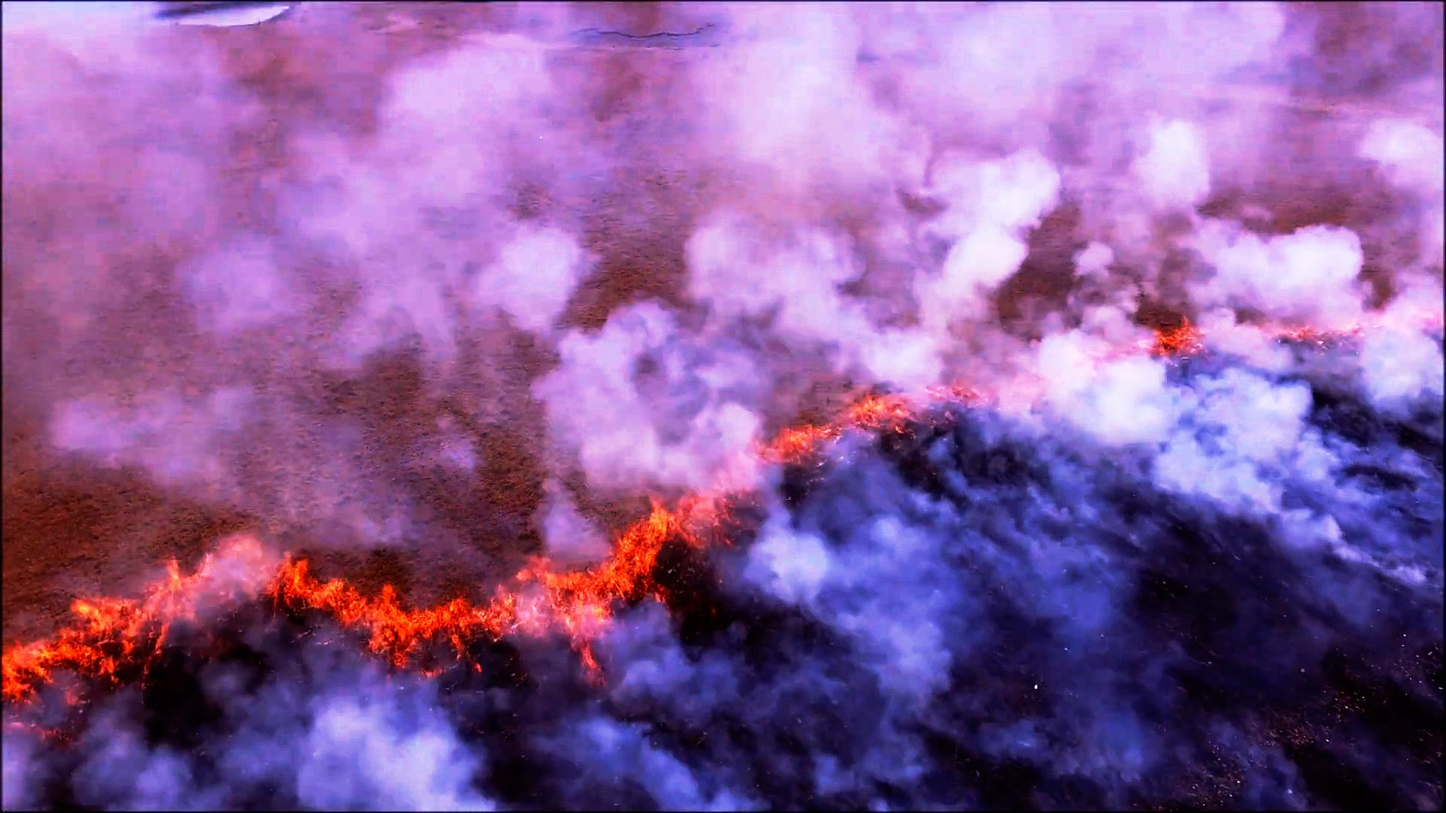fire: (497, 531, 659, 674), (0, 583, 154, 726), (294, 565, 486, 677), (847, 380, 953, 440)
smoke: (365, 15, 1446, 813), (8, 0, 362, 516), (388, 38, 738, 474), (1024, 312, 1446, 606), (1077, 26, 1446, 301), (753, 38, 1051, 376)
